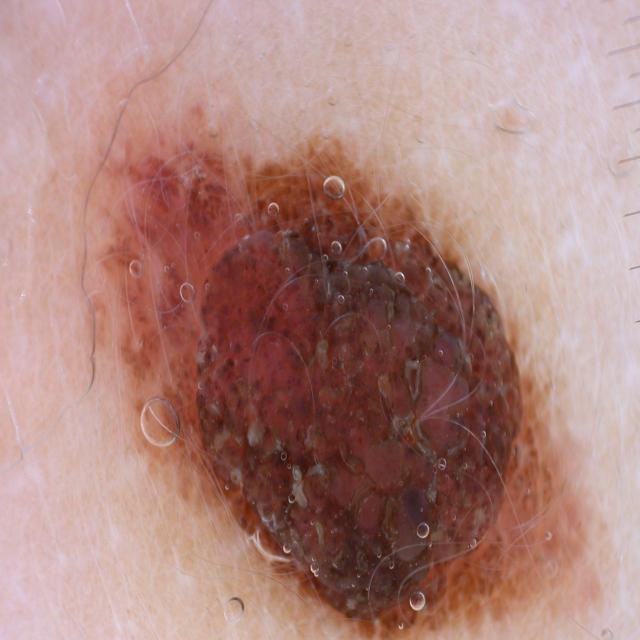Melanoma: (106, 115, 570, 620)
